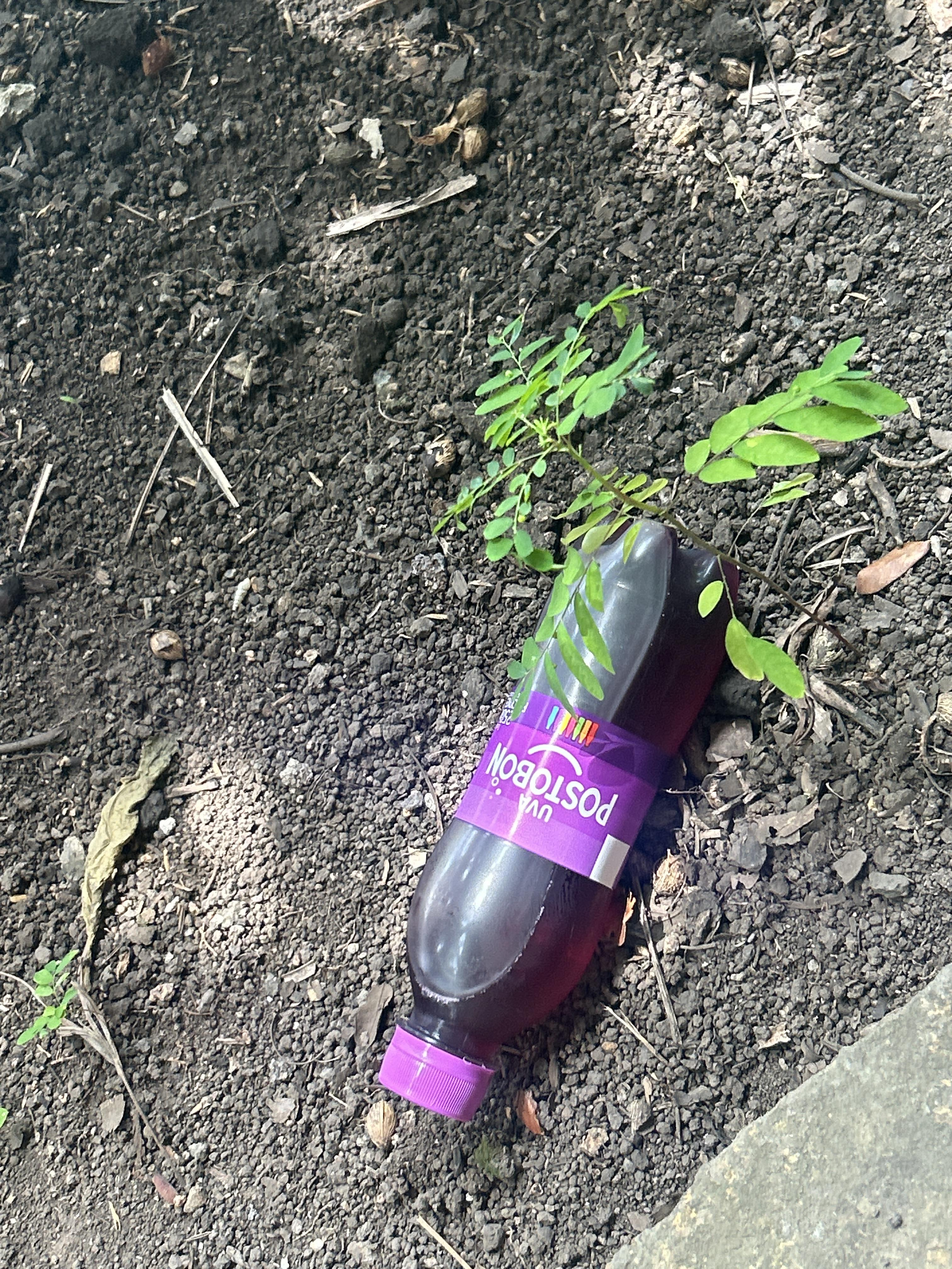uva: (380, 521, 730, 1120)
